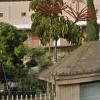Tree: (26, 11, 78, 65)
